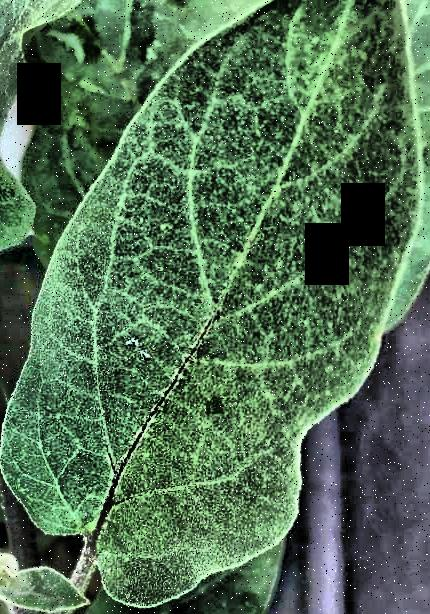HEALTHY: (1, 1, 430, 614)
